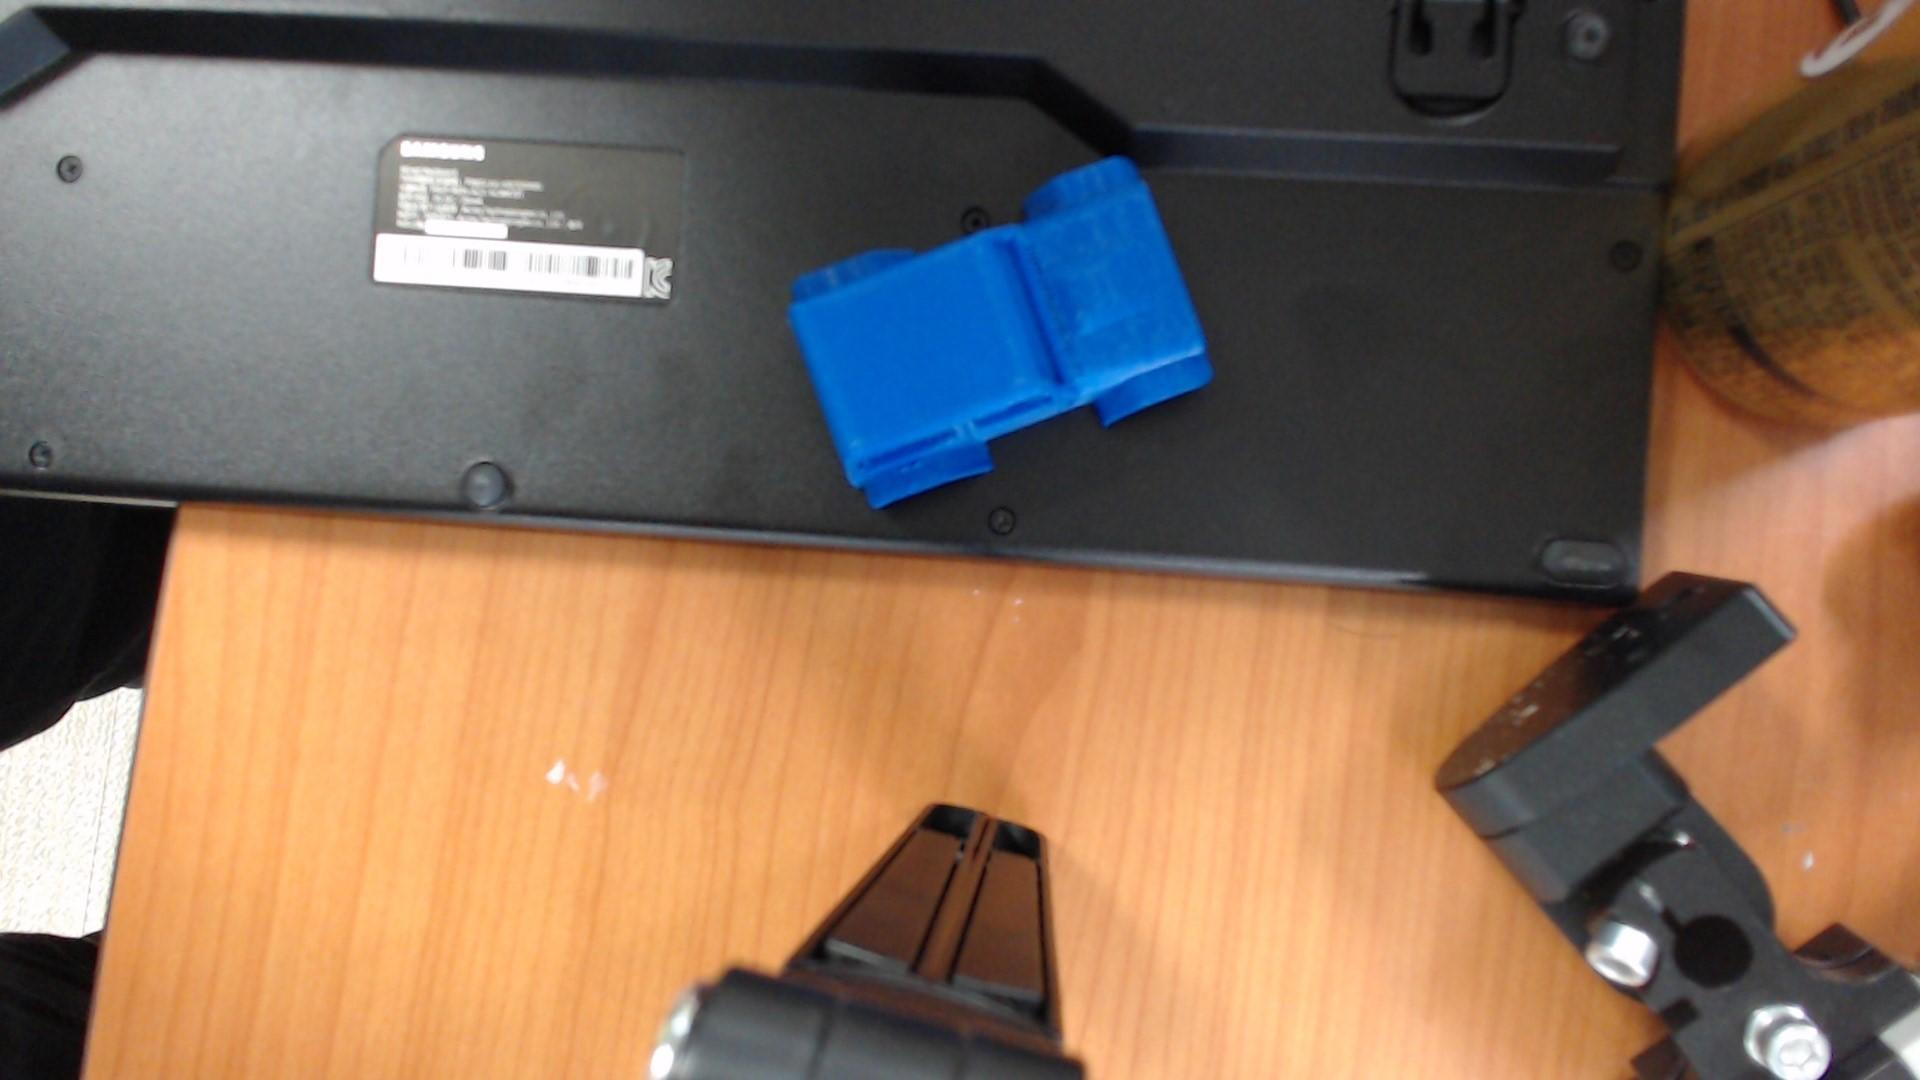Upper_ng: (789, 158, 1212, 508)
